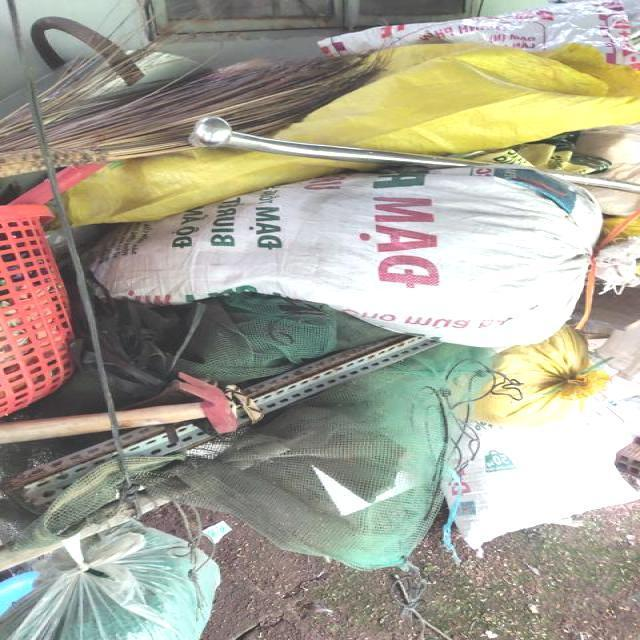gunny_bag: (92, 167, 601, 348)
